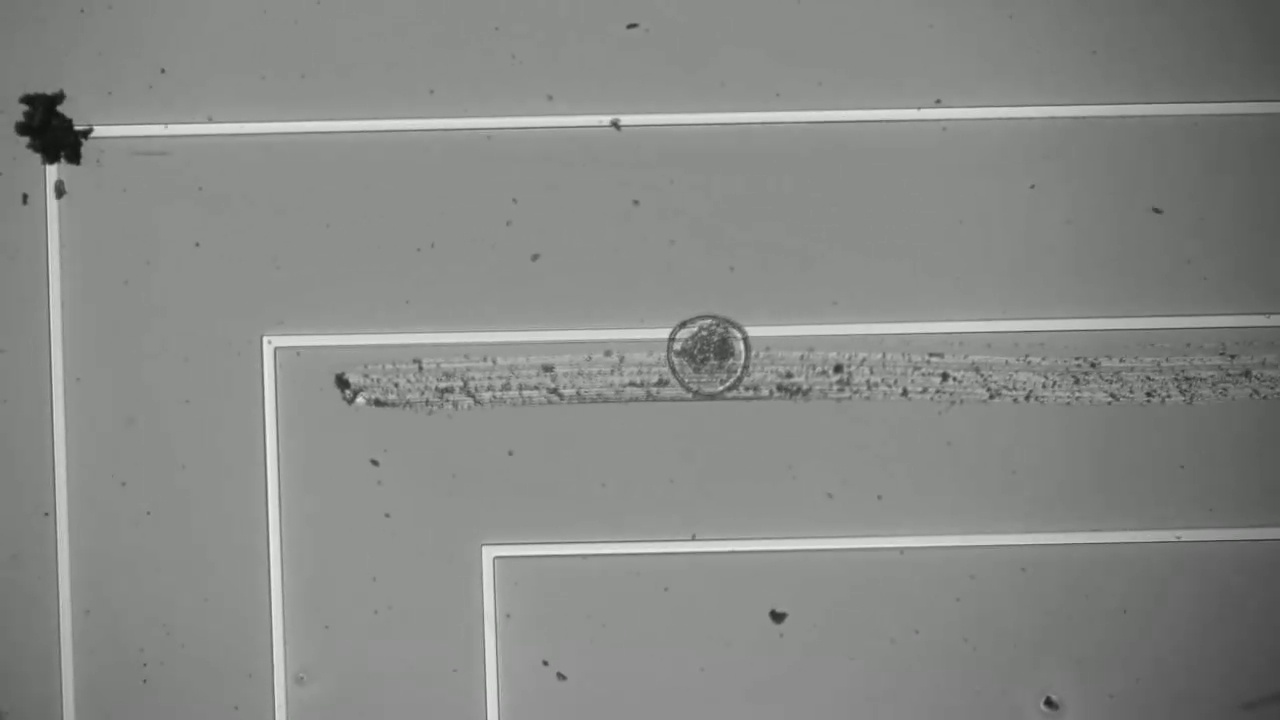stains_enbedded: (7, 74, 100, 193), (603, 109, 631, 137)
